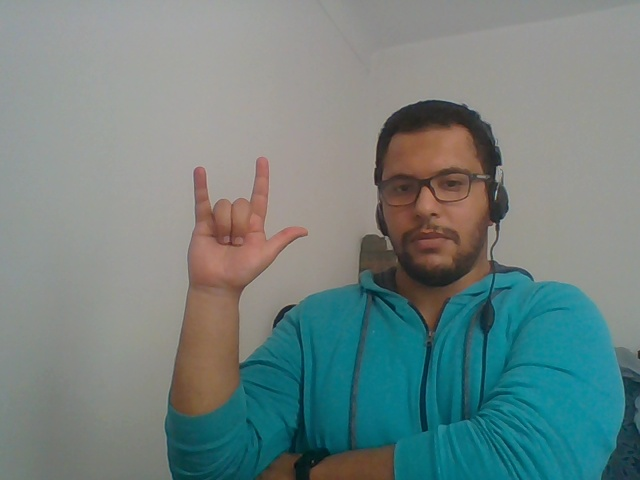iloveyou: (146, 130, 314, 362)
